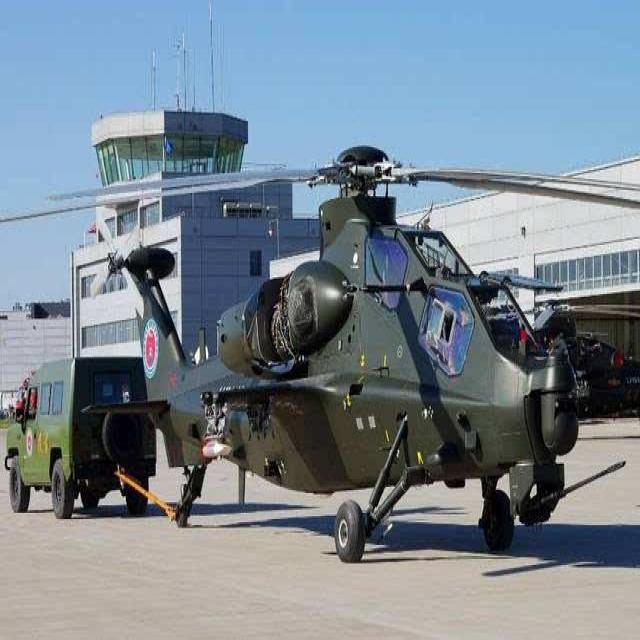MIL_HELO: (20, 134, 640, 569)
